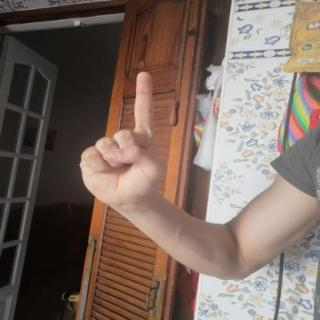BAA: (66, 64, 178, 222)
